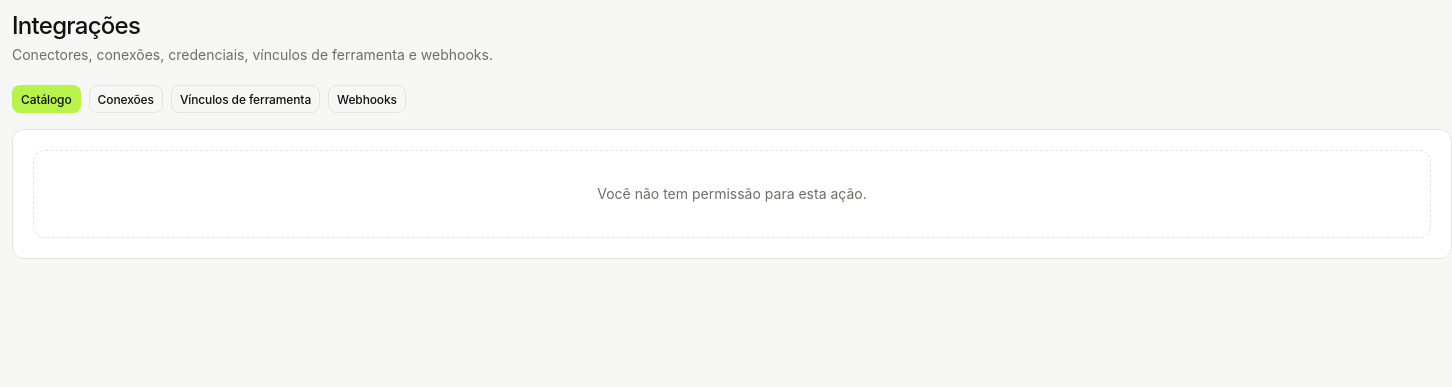
Test case: IntegrationsPage — vínculos de ferramenta › lista vazia mostra estado vazio e respeita a permissão de leitura
Click the tab "Vínculos de ferramenta" at (246, 99), box [171, 85, 320, 113]
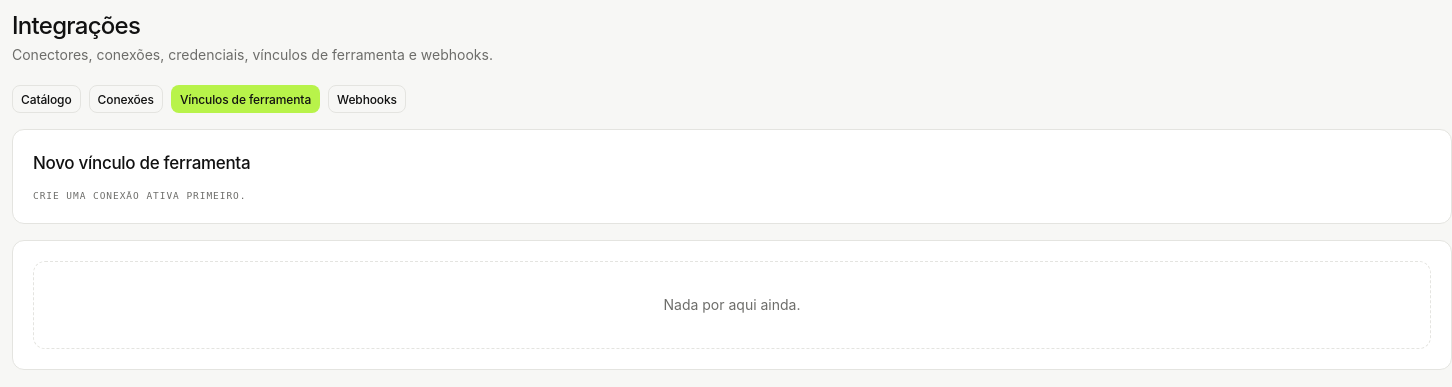
expect the text "Nada por aqui ainda." is shown: met, box [33, 261, 1431, 349]
